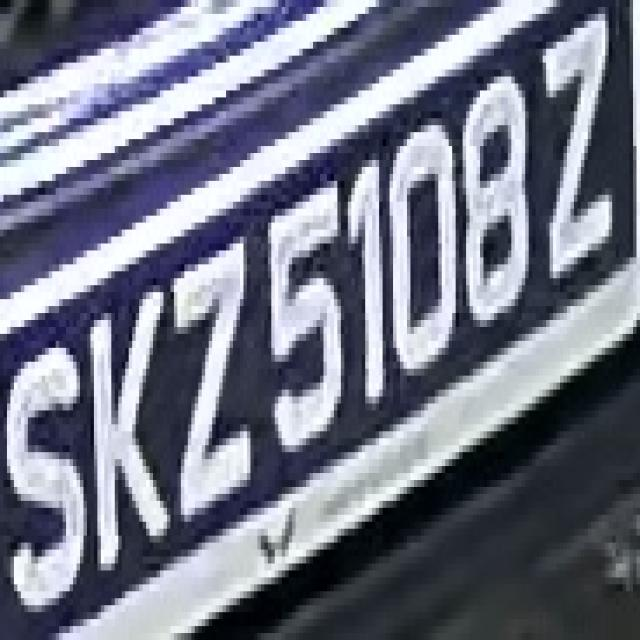0: (386, 118, 466, 376)
1: (341, 139, 386, 411)
5: (261, 167, 348, 459)
8: (456, 49, 532, 334)
K: (80, 272, 157, 592)
S: (7, 320, 87, 626)
Z: (167, 243, 257, 522), (536, 21, 619, 278)
